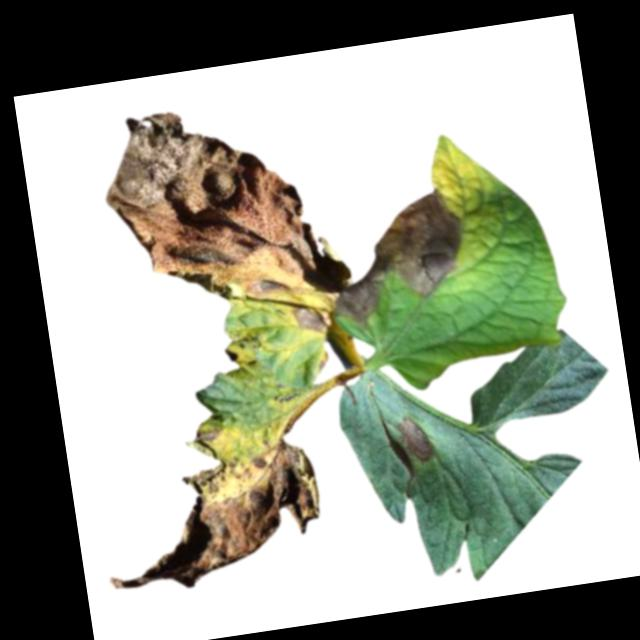Early_blight: (93, 94, 317, 318), (88, 411, 335, 600), (317, 185, 475, 327), (397, 413, 433, 465), (291, 302, 328, 337), (224, 345, 240, 363)
